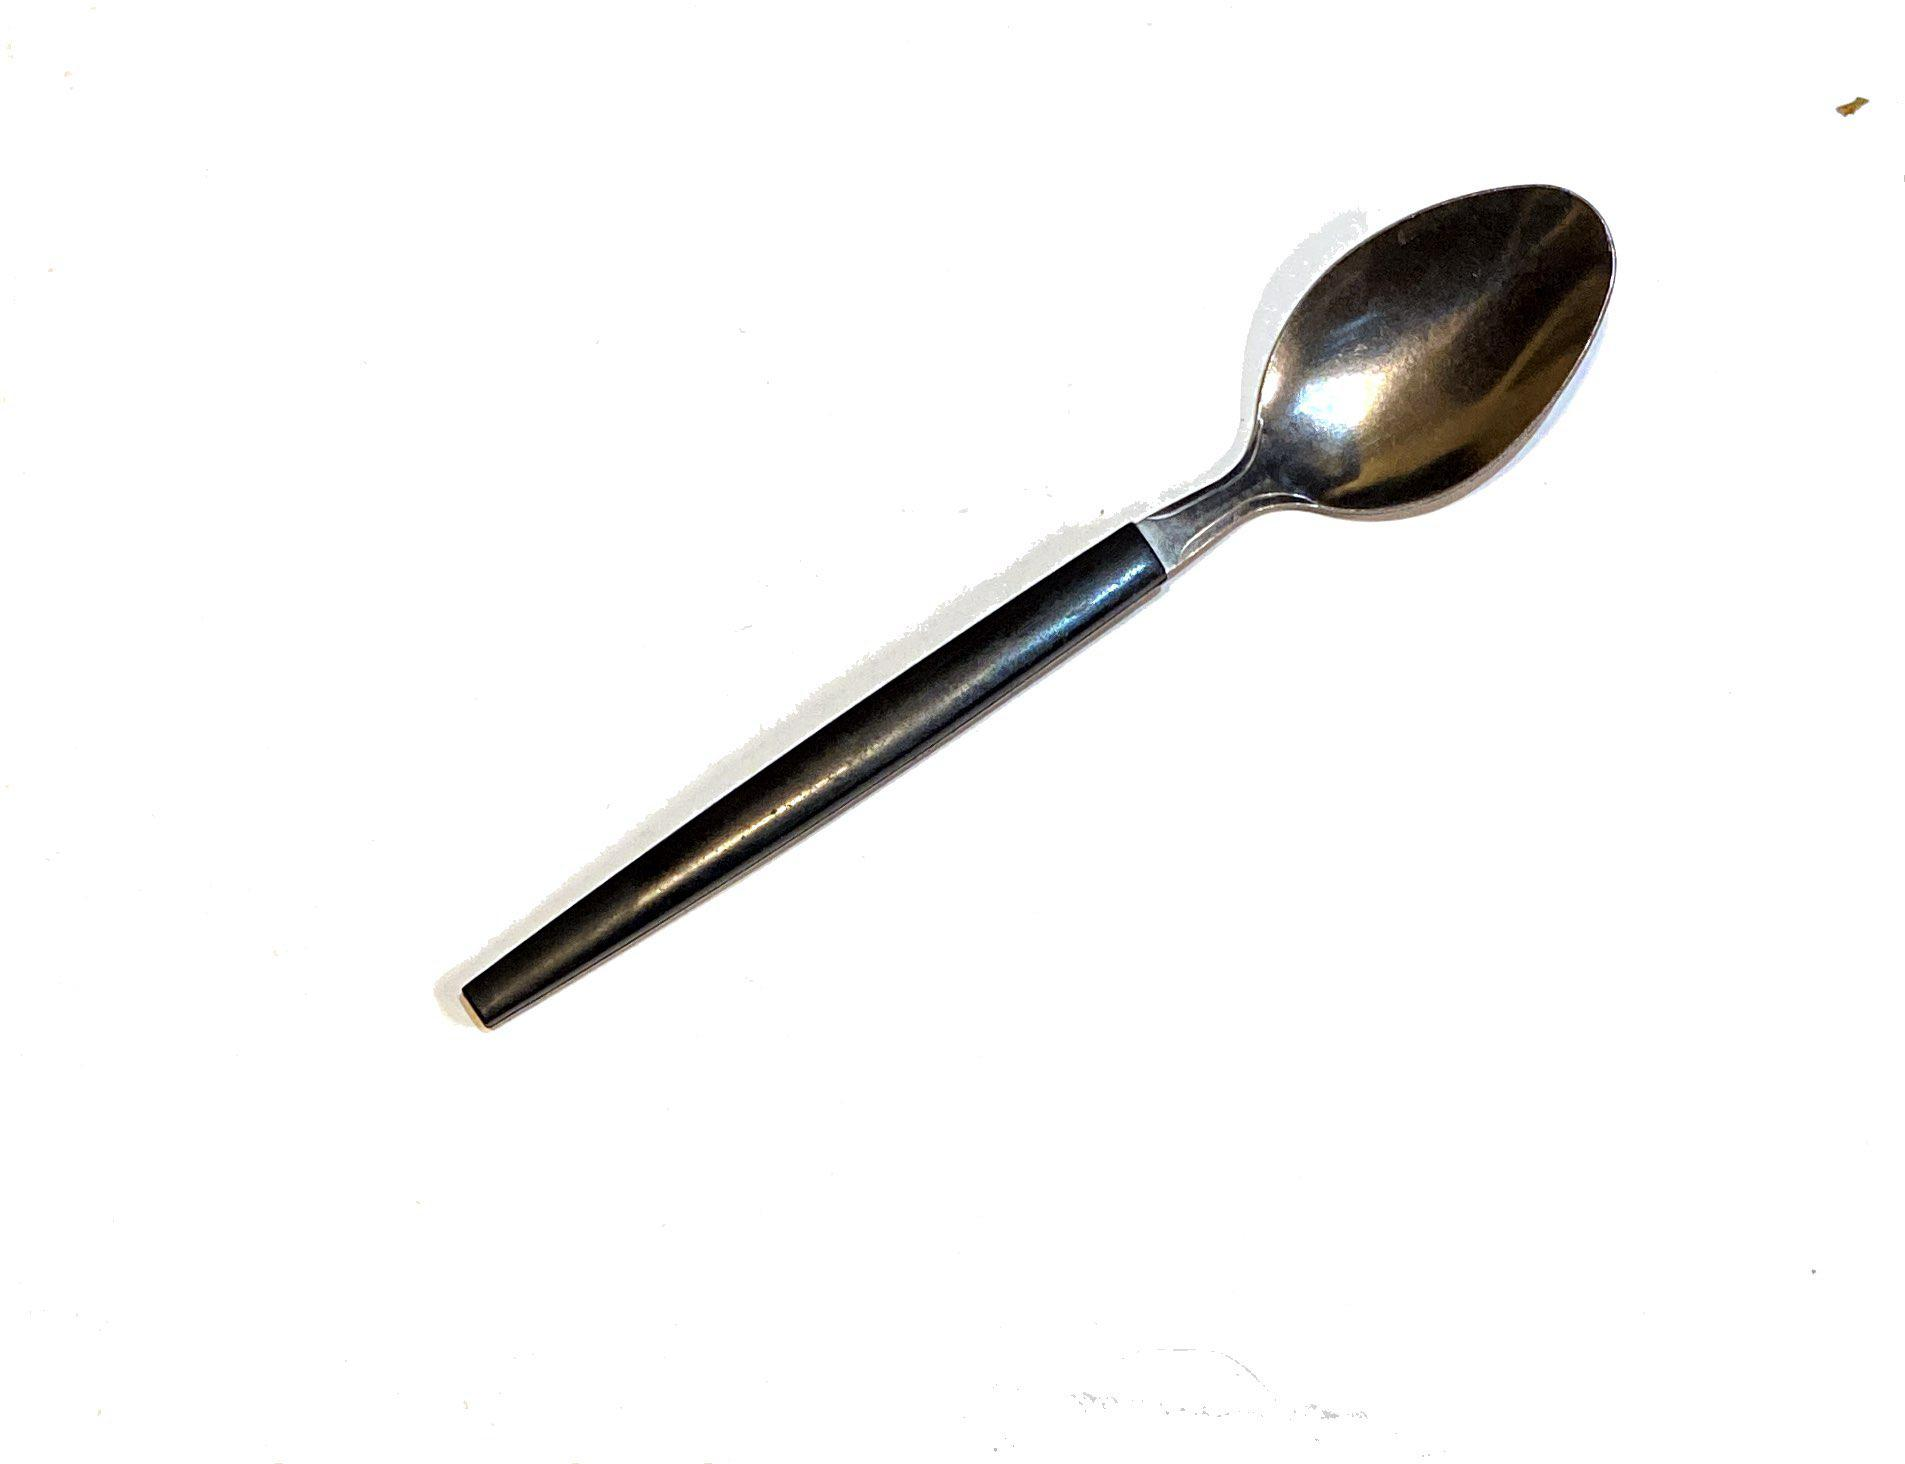Spoon: (441, 135, 1697, 1106)
